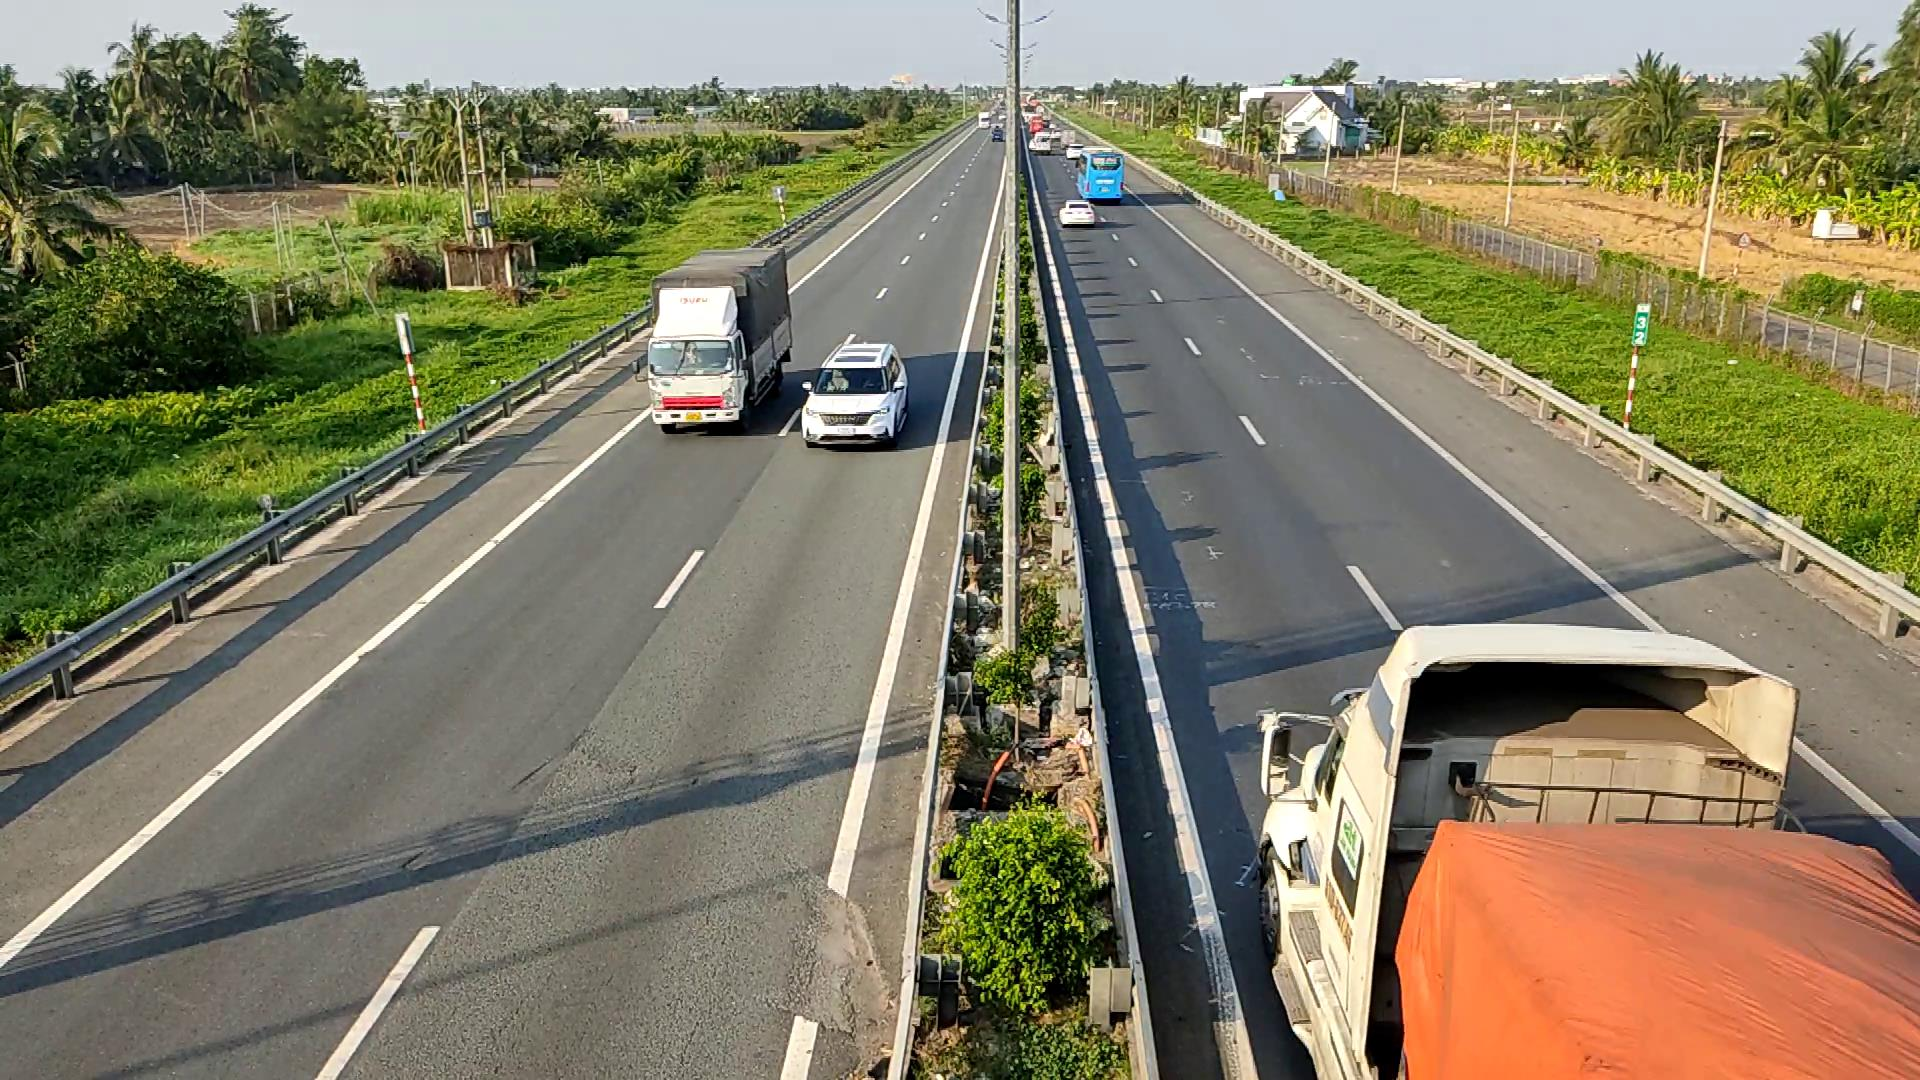car: (796, 332, 909, 447)
truck: (1247, 621, 1917, 1069), (644, 245, 794, 433)
